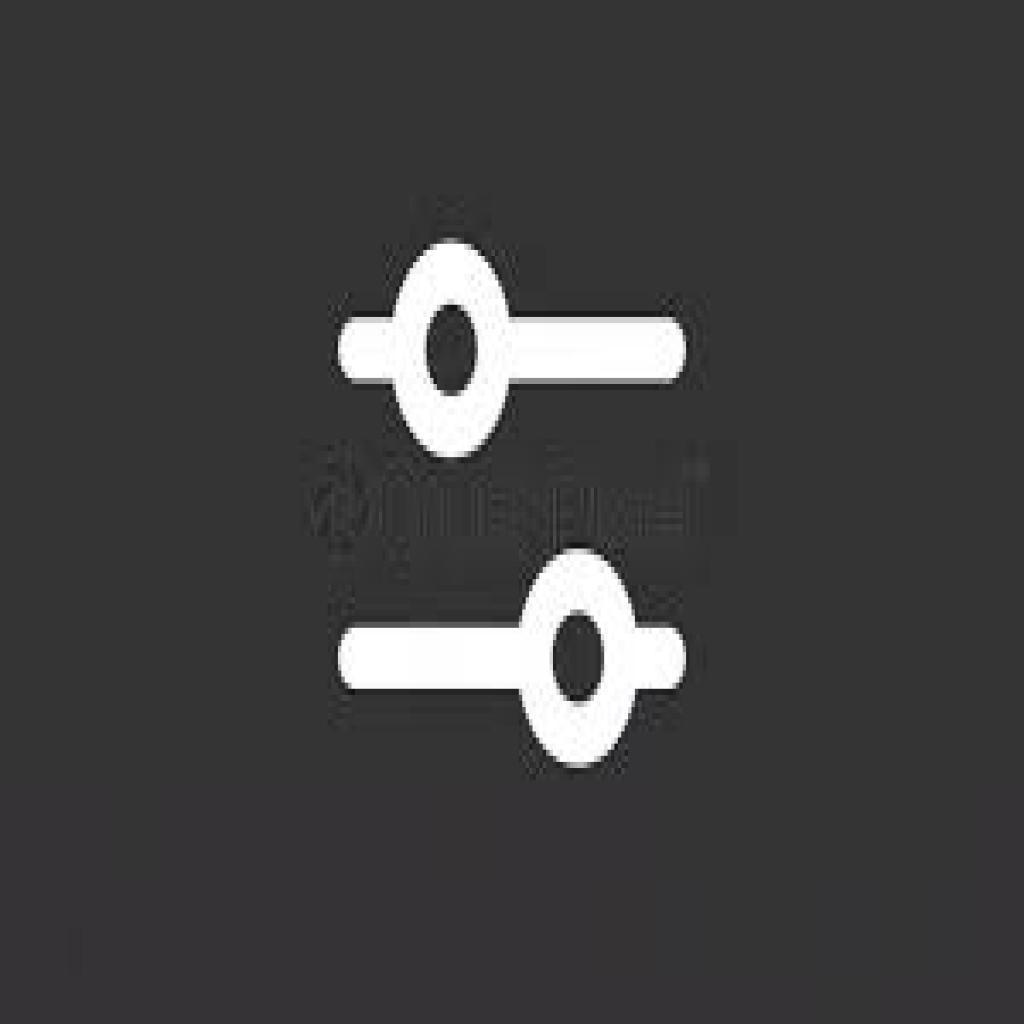slider: (339, 549, 691, 771), (337, 241, 690, 462)
